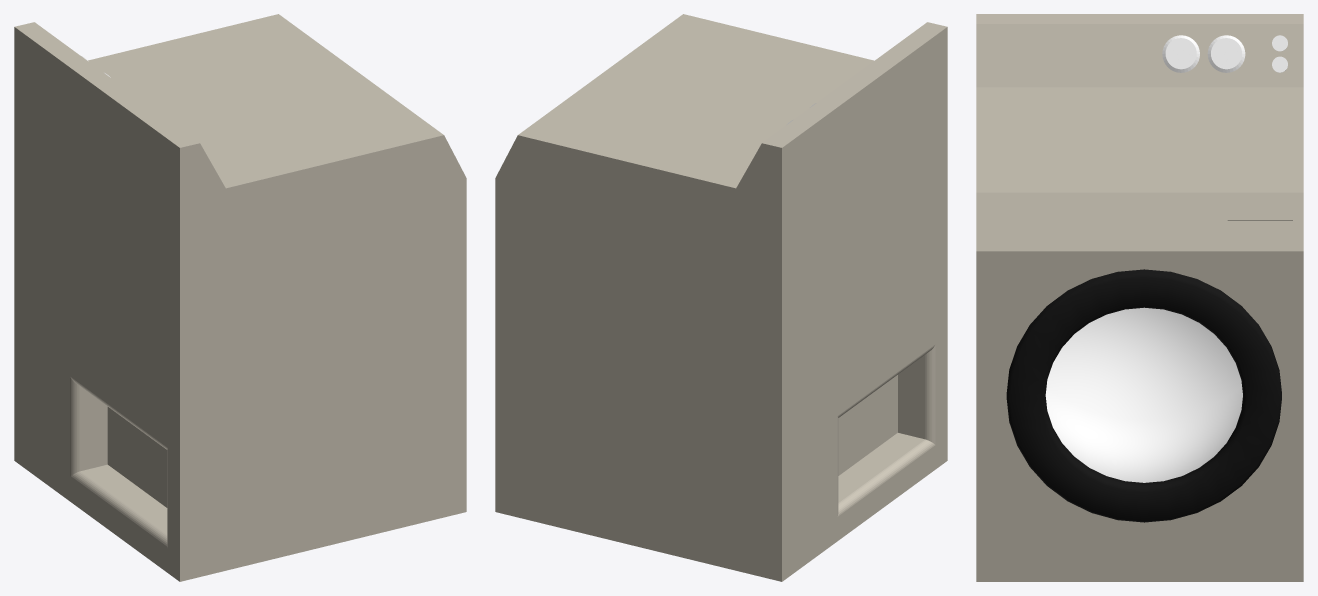
The model's file is washer.obj.
The picture shows the model from 3 angles, left to right: view 1: azimuth 30°, elevation 25°; view 2: azimuth 150°, elevation 25°; view 3: azimuth 270°, elevation 25°; orthographic projection.
Parts seen in each view (by area): view 1: Plane; view 2: Plane; view 3: Plane.
Boxes of the visible parts, x1=… form: Plane: x1=14, y1=14, x2=466, y2=581; Plane: x1=495, y1=14, x2=947, y2=581; Plane: x1=976, y1=14, x2=1303, y2=581.
Size of the model in its own units: 0.71 by 0.9924 by 0.686.
